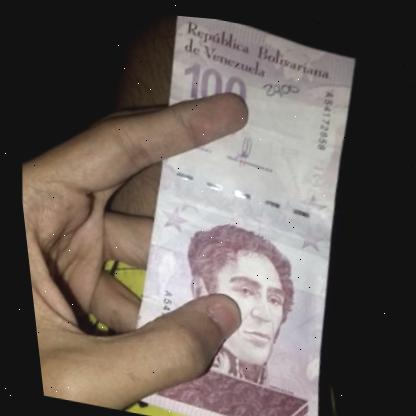one_hundred-front-vef: (89, 6, 378, 416)
